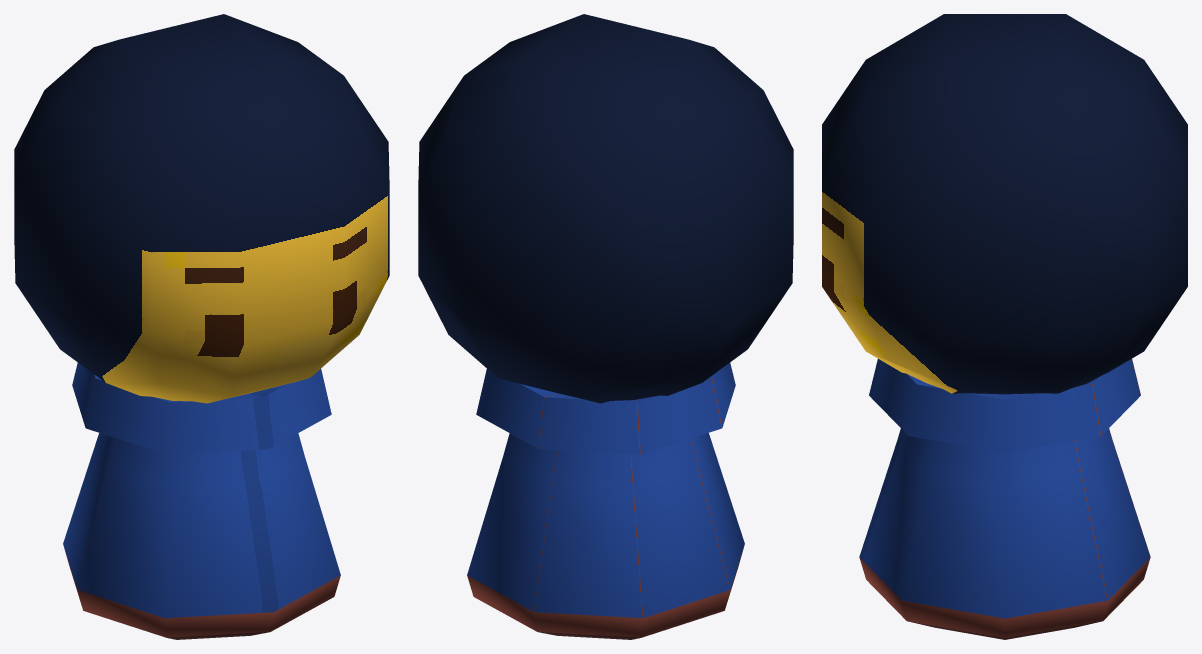
File: Player1.fbx
3 renders of one model, left to right at view 1: azimuth 30°, elevation 25°; view 2: azimuth 150°, elevation 25°; view 3: azimuth 270°, elevation 25°, orthographic.
Visible parts, largest first — view 1: face, body; view 2: face, body; view 3: face, body.
Part boxes in pixels (box(x1,y1,x2,y2)): face: box(14, 14, 389, 403); body: box(63, 362, 340, 639); face: box(418, 14, 793, 403); body: box(467, 362, 744, 639); face: box(822, 14, 1187, 394); body: box(859, 359, 1150, 639).
Size of the model in its own units: 61.31 by 103 by 61.31.
Materials: 2 (2 with a texture image).
